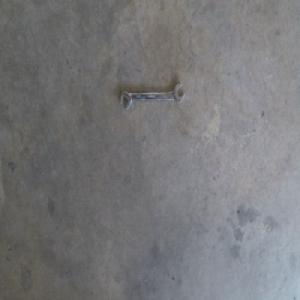Wrench: (118, 83, 183, 110)
